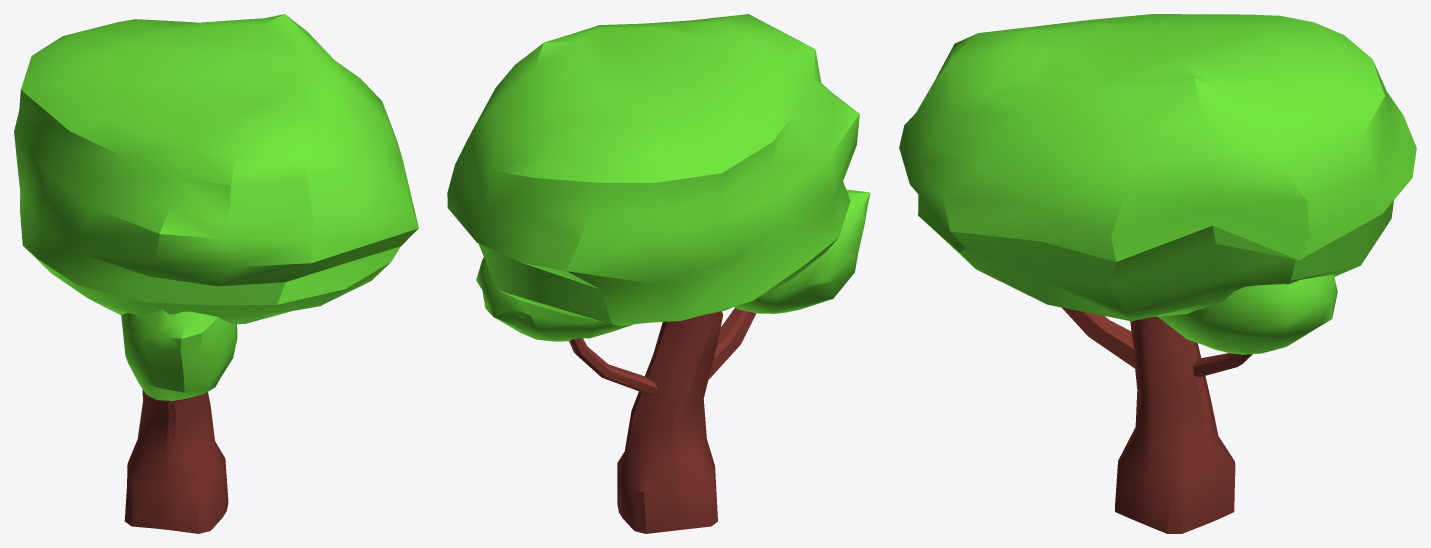
The model's file is tree1.fbx.
3 views of the same model, side by side, from view 1: azimuth 30°, elevation 25°; view 2: azimuth 150°, elevation 25°; view 3: azimuth 270°, elevation 25° (orthographic). The views are drawn at different scales.
Visible parts, largest first — view 1: Cylinder.024; view 2: Cylinder.024; view 3: Cylinder.024.
Boxes of the visible parts, bbox=[...] form: Cylinder.024: bbox=[14, 14, 418, 533]; Cylinder.024: bbox=[447, 14, 870, 533]; Cylinder.024: bbox=[899, 14, 1416, 533].
Size of the model in its own units: 787 by 1054 by 1002.
